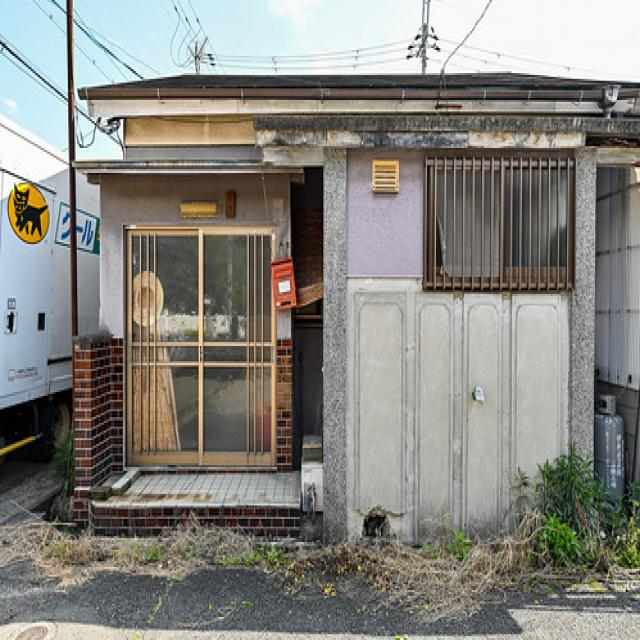Normal_building: (61, 50, 640, 565)
